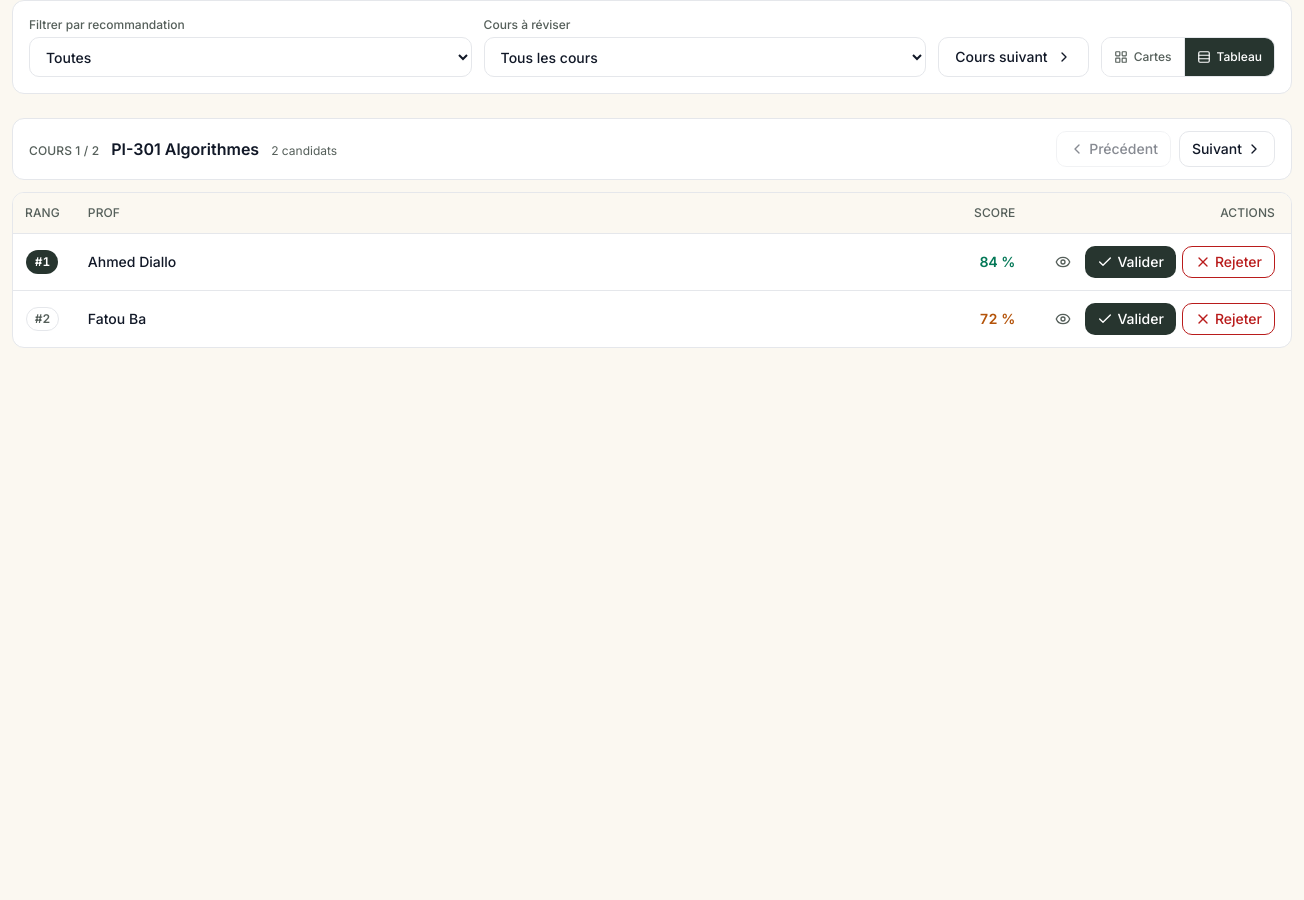
AffectationTable › affiche la vue tableau compacte par défaut, basculable en cartes
Expected: the table is shown, [13,193,1291,347]
Expected: the text "Cours 1 / 2" is shown, [29,143,99,159]
Click the button with aria-label "Vue cartes": (1143, 57) [1102,38,1184,76]
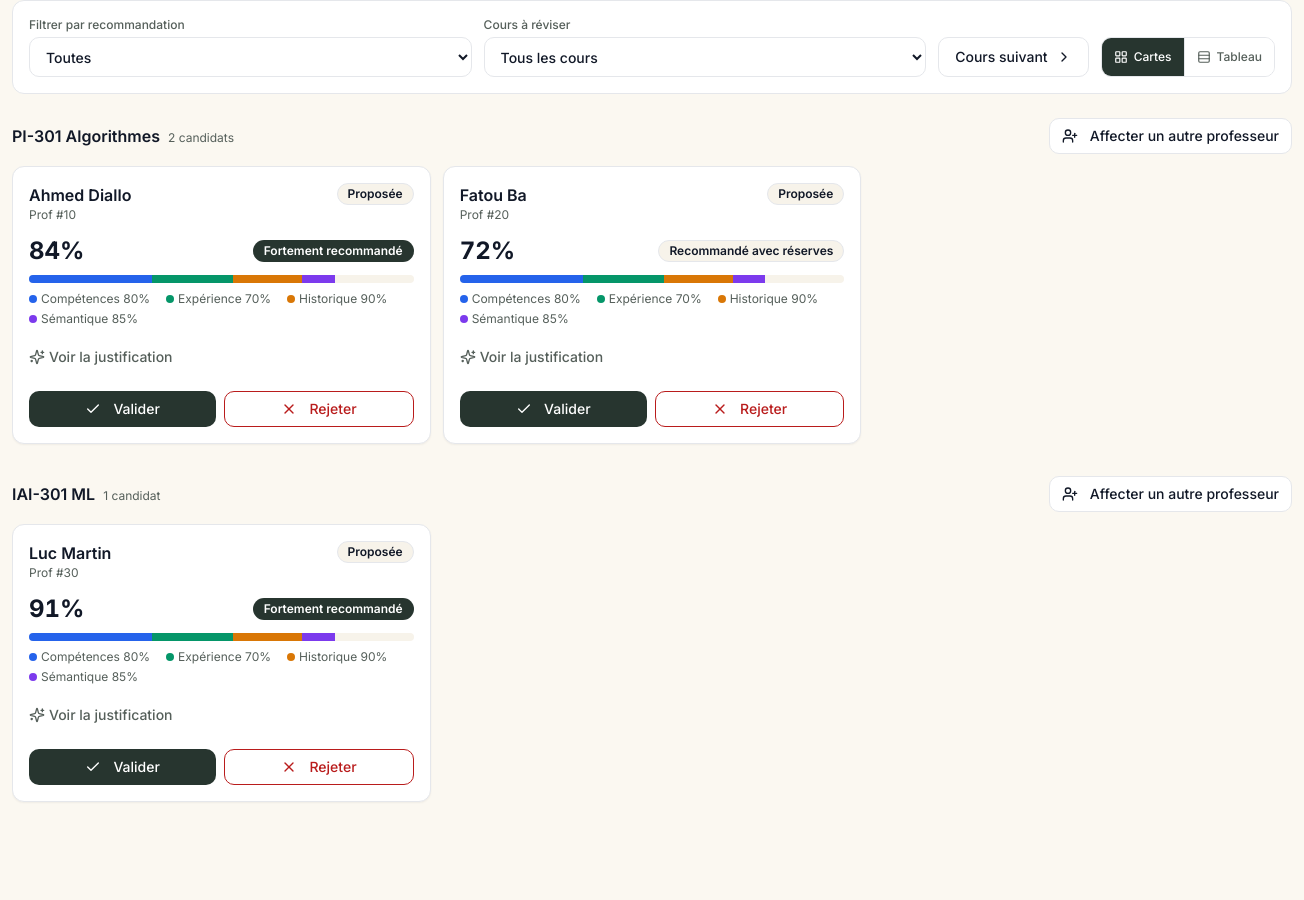
Expected: the table is gone
Expected: the number of headings "PI-301 Algorithmes" is 1, [12,124,160,148]
